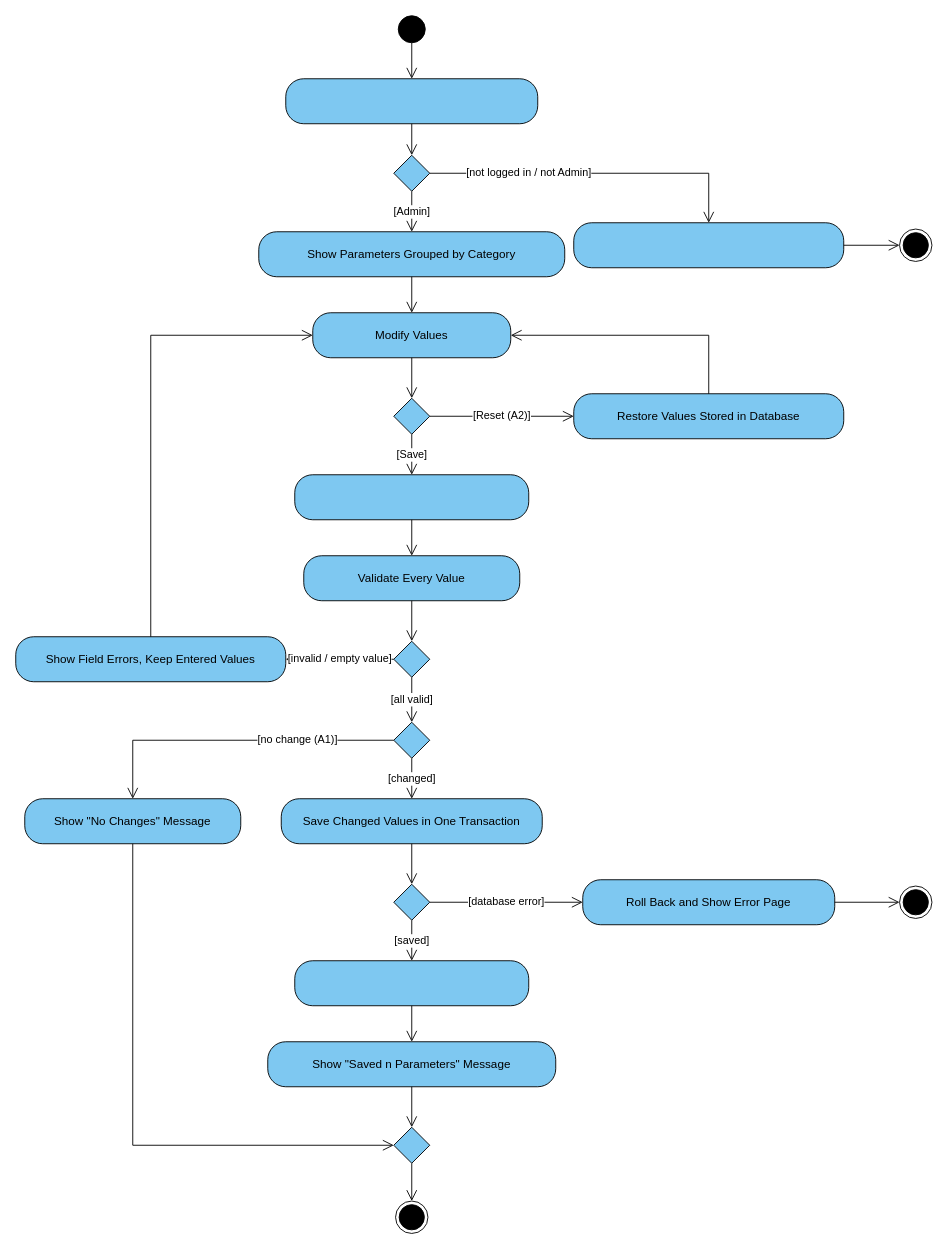
Image size: 948x1249. Some labels were removed from this diagram. Each missing label, with the centre of its shape:
Click Save Configurations: the point at 411,497
Log Each Change (UC-32): the point at 411,983
Open System Configurations: the point at 411,101
Redirect to Login or Show 403 Page: the point at 708,245
